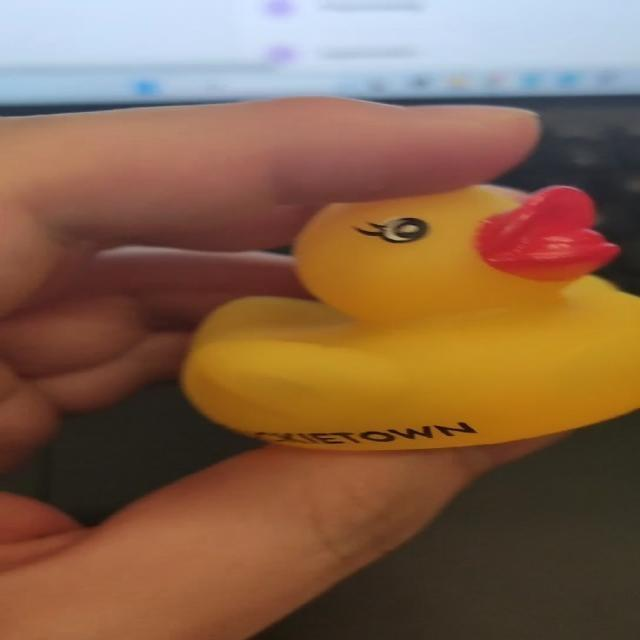rubber-duck: (181, 184, 638, 448)
